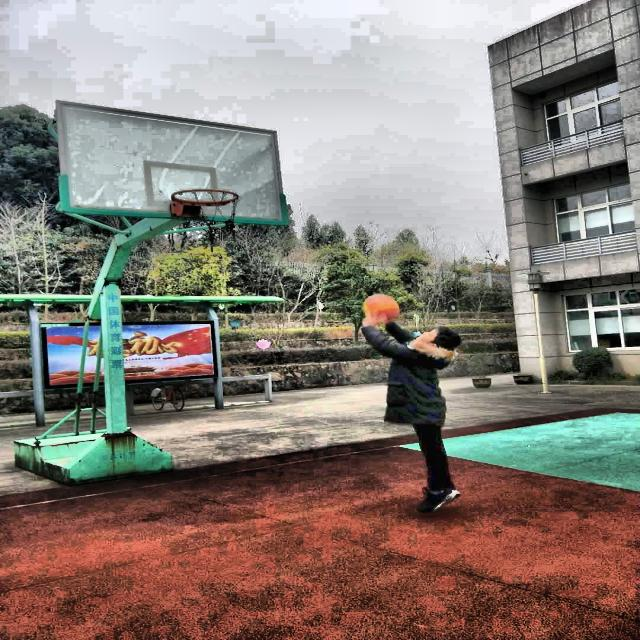board: (364, 294, 399, 321)
